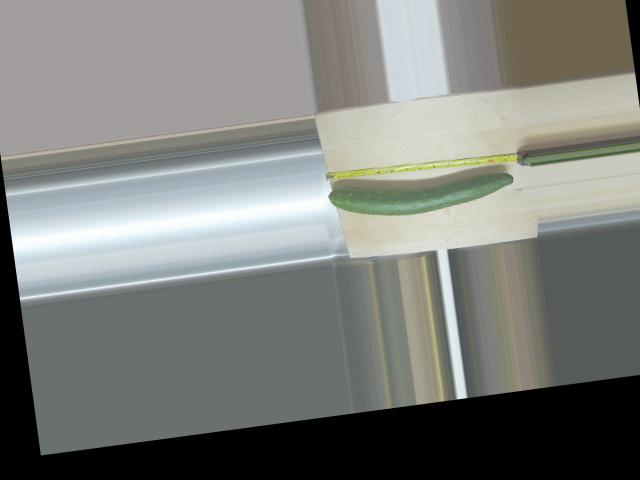cucumber: (327, 164, 516, 224)
